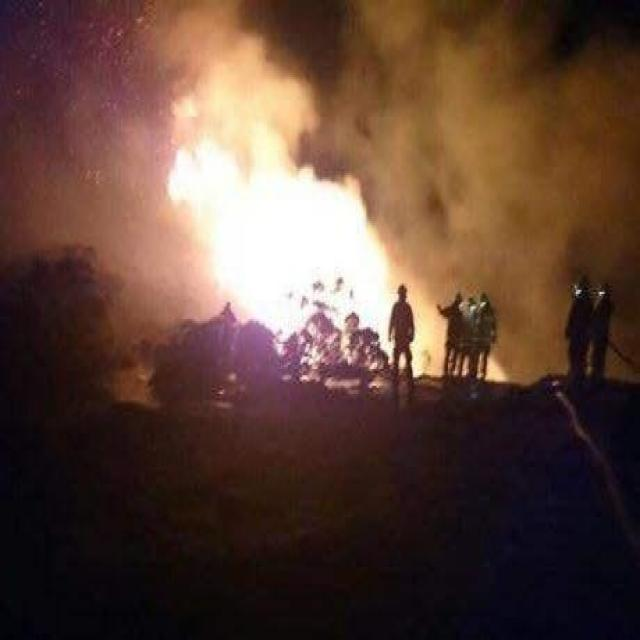fire: (180, 96, 433, 384)
smoke: (356, 30, 622, 279)
